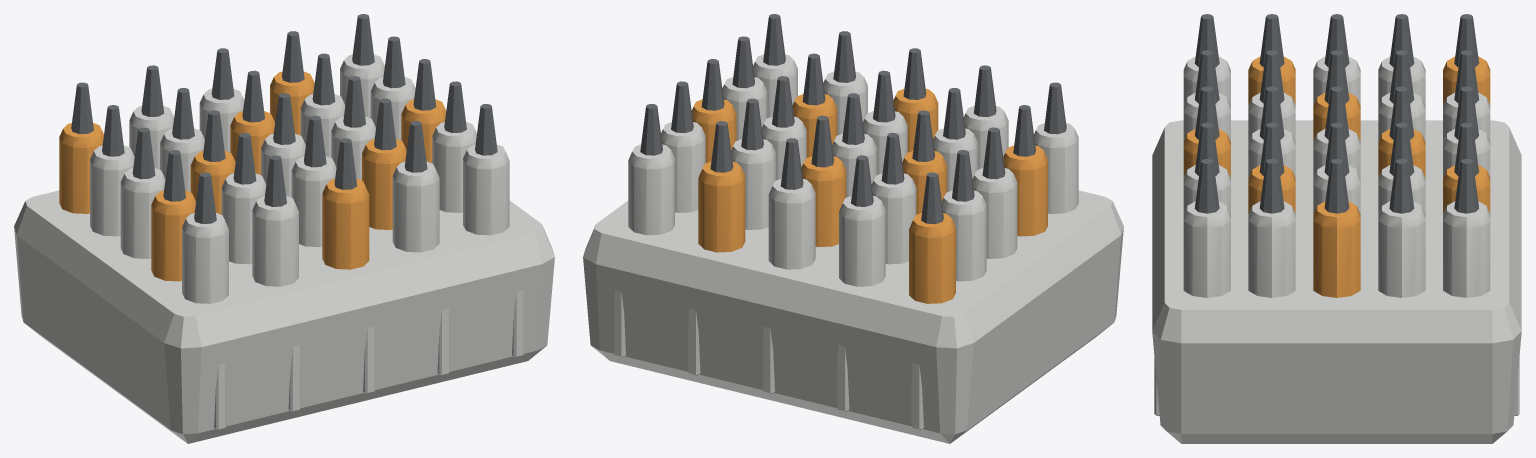
The picture shows the model from 3 angles, left to right: view 1: azimuth 30°, elevation 25°; view 2: azimuth 150°, elevation 25°; view 3: azimuth 270°, elevation 25°; orthographic projection. The views are drawn at different scales.
Visible parts, largest first — view 1: sealant-tube-crate; view 2: sealant-tube-crate; view 3: sealant-tube-crate.
Part boxes in pixels (x1,y1,x2,y2): sealant-tube-crate: (14,14,554,443); sealant-tube-crate: (583,14,1123,443); sealant-tube-crate: (1152,14,1521,443).
Size of the model in its own units: 0.456 by 0.284 by 0.356.
